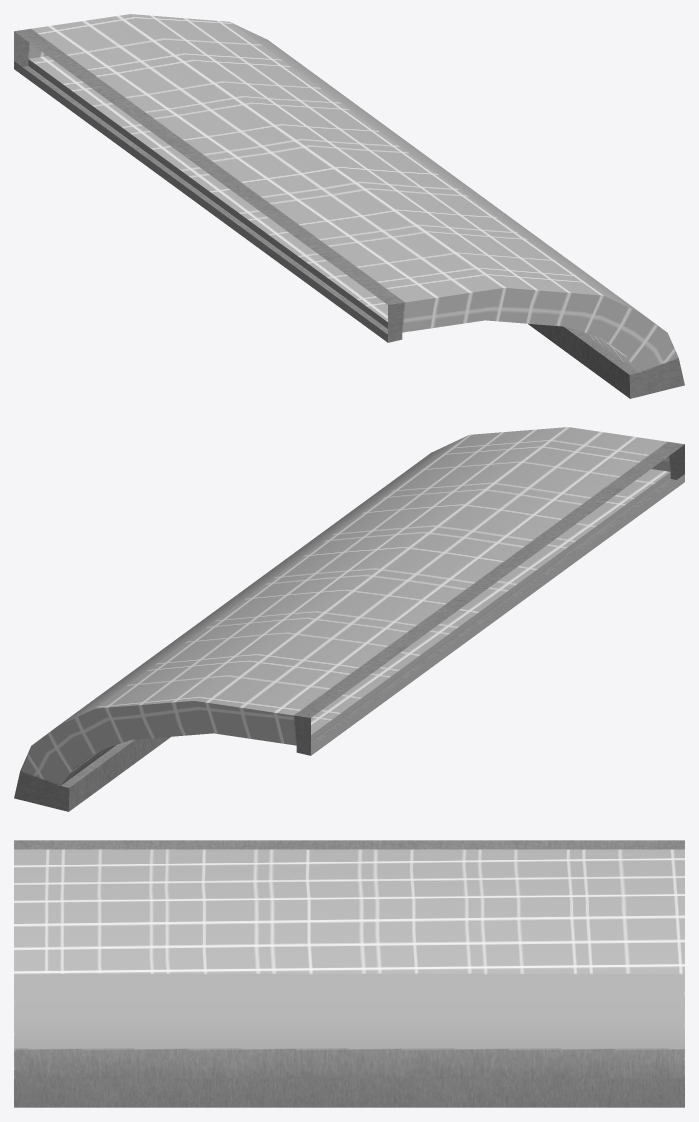
The model's file is MallCeilingRight_FIXED (1).fbx.
3 views of the same model, one above another, from view 1: azimuth 30°, elevation 25°; view 2: azimuth 150°, elevation 25°; view 3: azimuth 270°, elevation 25° (orthographic). The views are drawn at different scales.
Visible parts, largest first — view 1: polySurface3; view 2: polySurface3; view 3: polySurface3.
Boxes of the visible parts, x1,y1,x2,y2 form: polySurface3: [14, 14, 684, 398]; polySurface3: [14, 427, 684, 811]; polySurface3: [14, 840, 684, 1107].
Bounding box in the file's own units: 9.59 × 4.72 × 20.93.
Materials: 1 (1 with a texture image).
